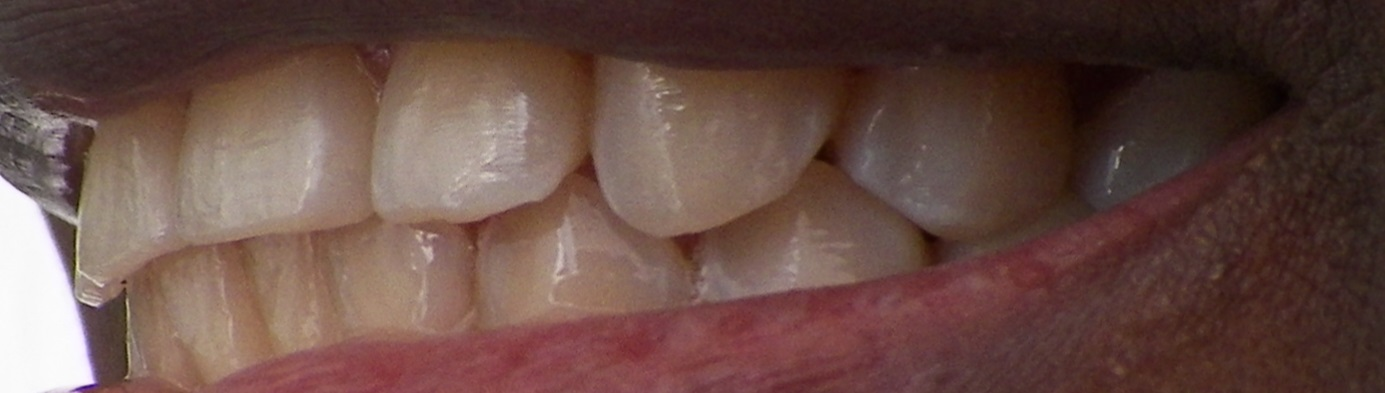boca: (67, 37, 1224, 369)
